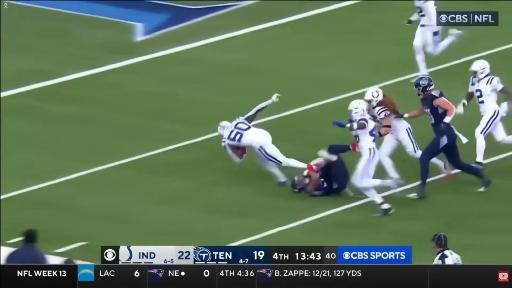Helmet: (414, 75, 434, 96), (470, 60, 490, 79), (291, 171, 309, 192), (348, 100, 367, 119), (364, 87, 383, 106), (218, 121, 230, 135)
Jersey: (222, 119, 271, 148), (469, 75, 503, 115), (314, 158, 349, 196), (371, 106, 409, 132), (421, 90, 447, 127), (353, 115, 377, 150), (415, 0, 437, 26)
Player: (398, 76, 490, 198), (218, 94, 316, 185), (333, 100, 401, 215), (457, 60, 511, 167), (364, 87, 421, 178), (406, 0, 463, 74), (291, 145, 356, 196)
